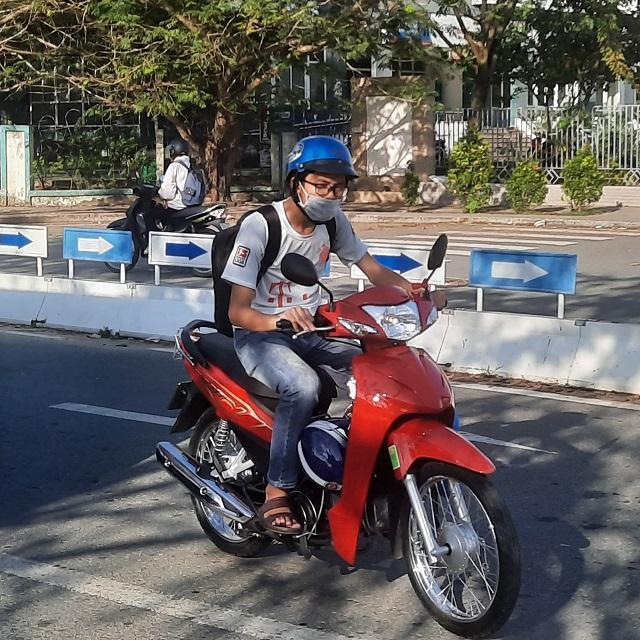Helmet: (283, 135, 357, 221)
